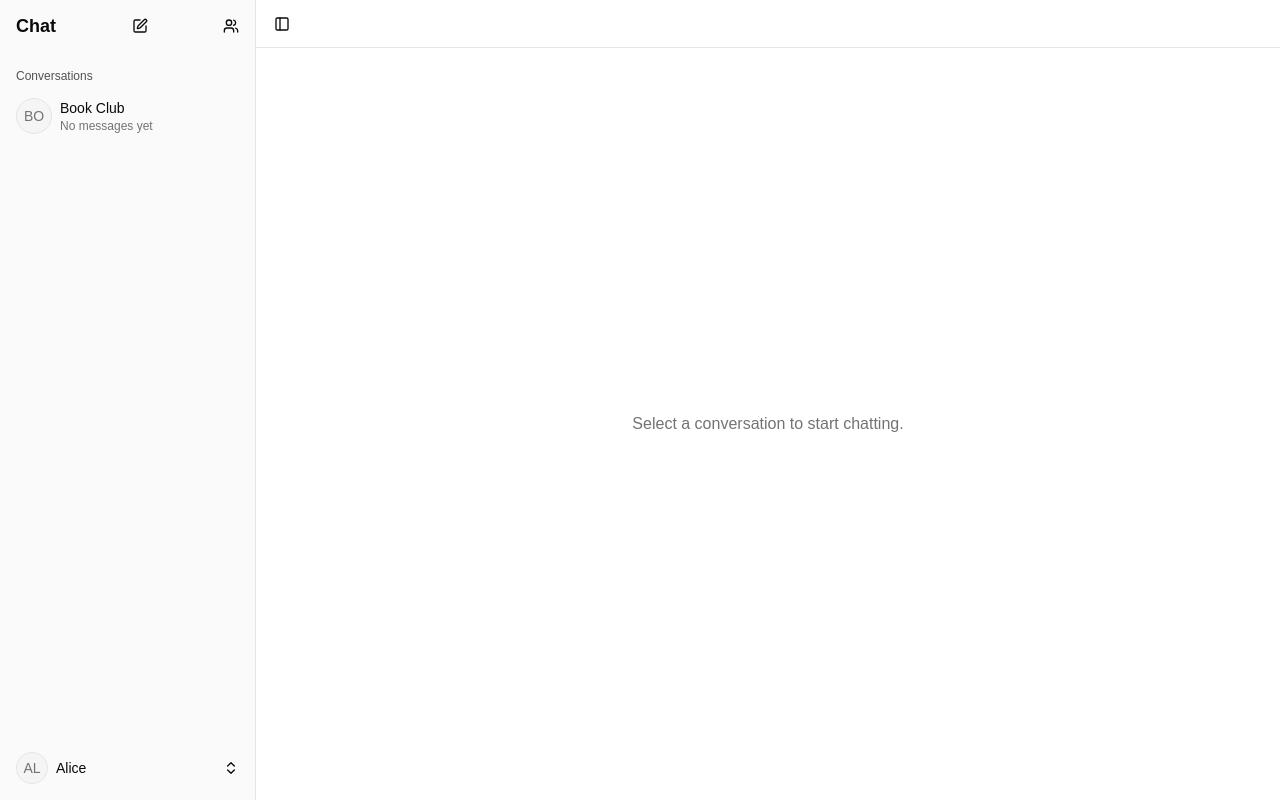
Scenario: Group details › lets the Owner remove a Member after confirming
What coordinates should you click on to do the following:
click the button "BO Book Club No messages yet"
I would click on:
 (128, 116)
Its box is [8,92,247,140].
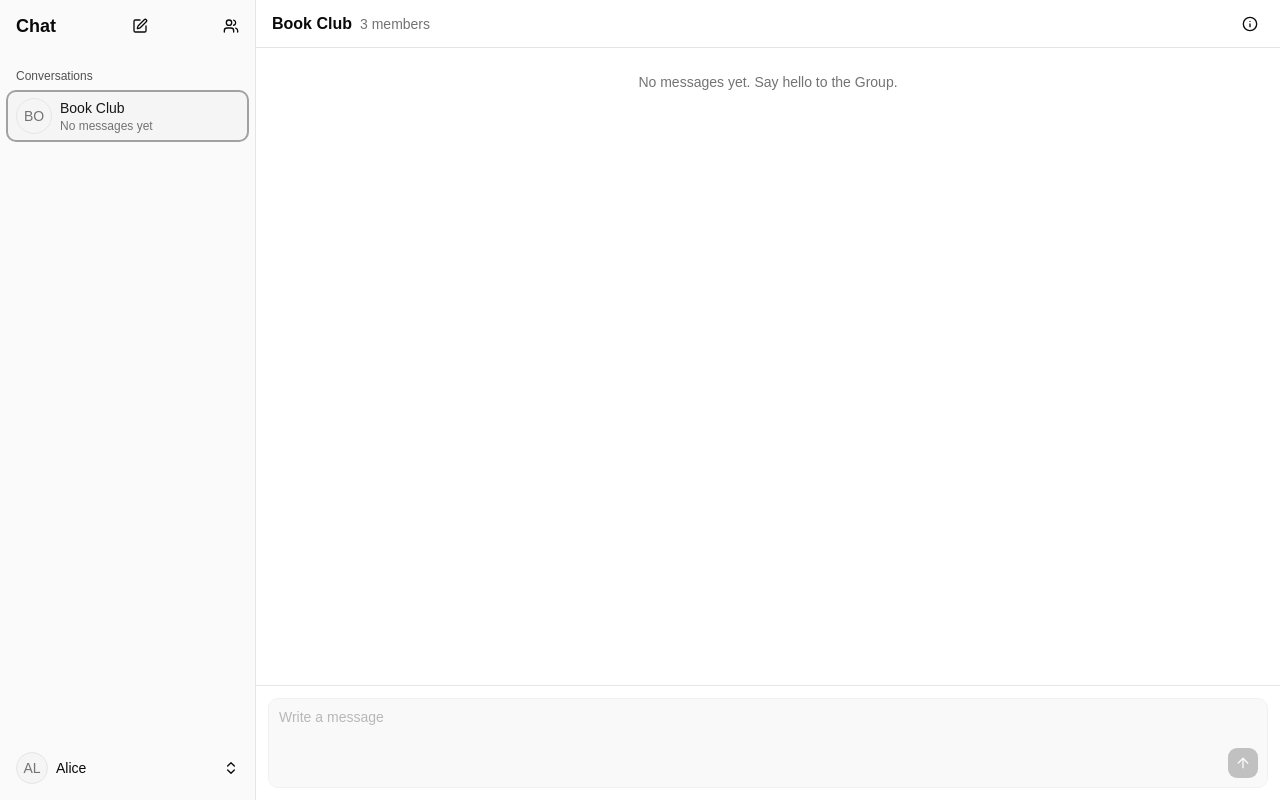
What coordinates should you click on to do the following:
click the button named "group details"
I would click on:
 (1250, 24)
Its box is [1236,10,1264,38].
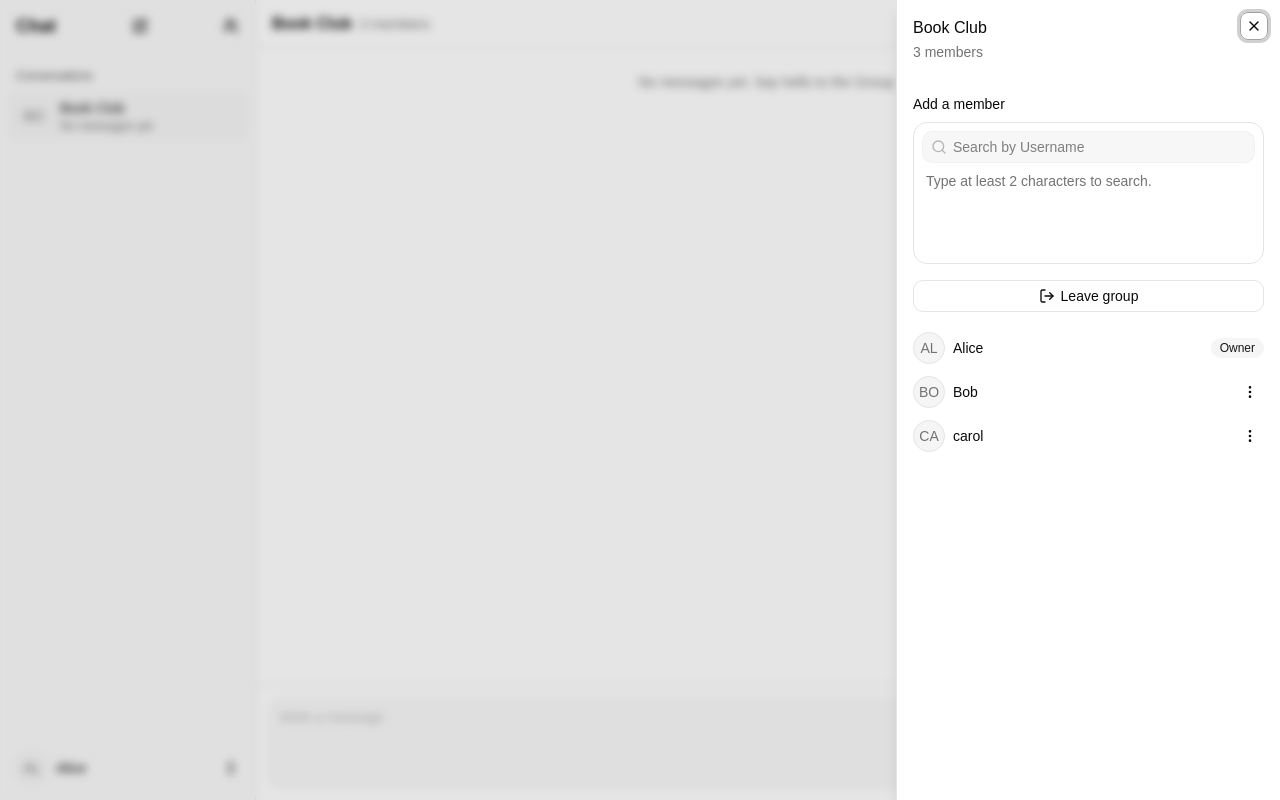
What coordinates should you click on to do the following:
click the button named "actions for bob"
I would click on:
 (1250, 392)
Its box is [1236,378,1264,406].
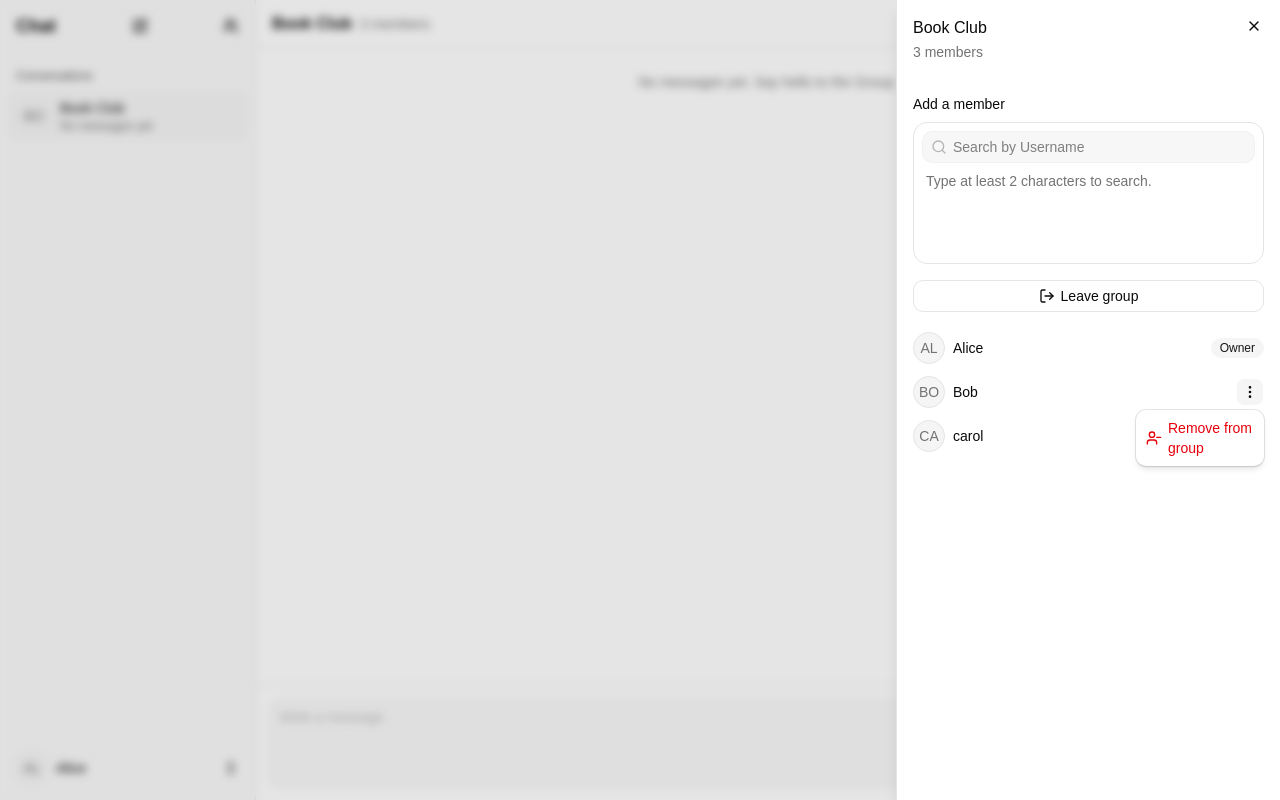
What coordinates should you click on to do the following:
click the menu item "Remove from group"
I would click on:
 (1200, 438)
Its box is [1140,414,1260,462].
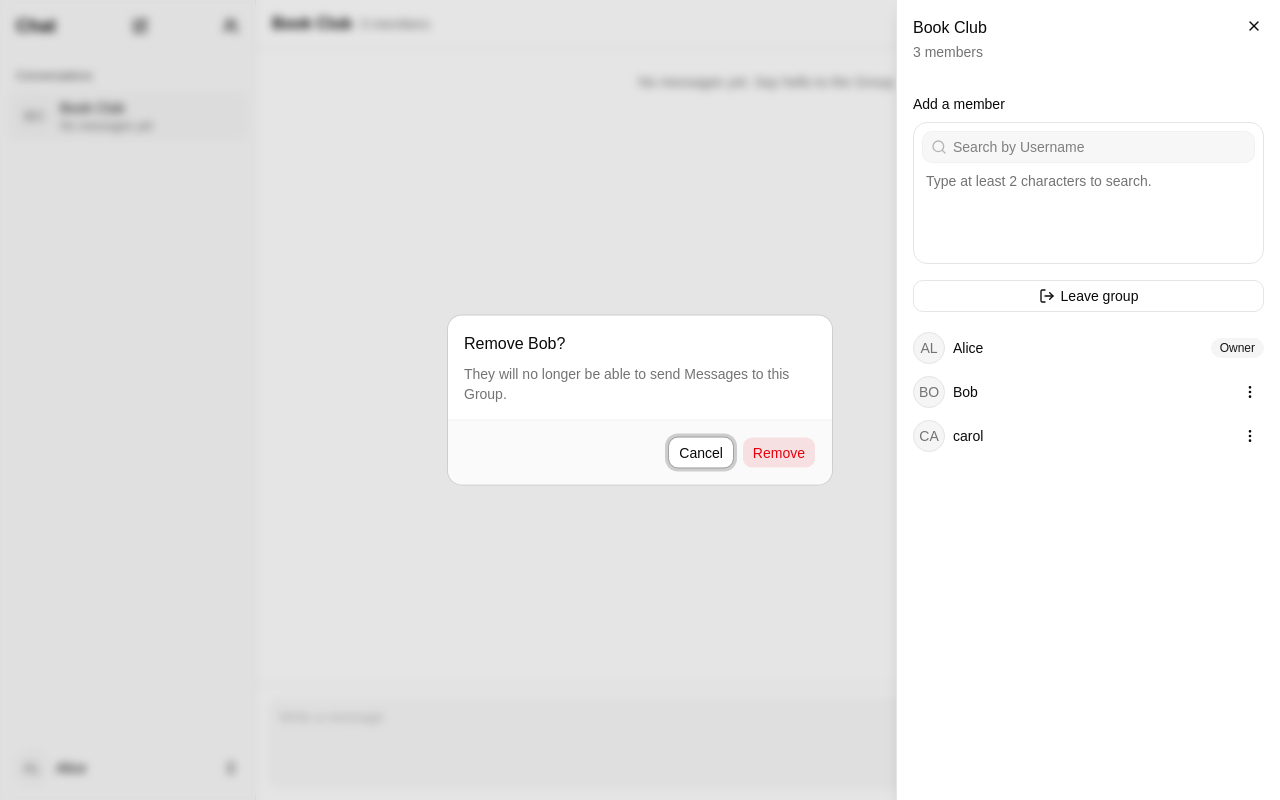
What coordinates should you click on to do the following:
click the button "Remove"
I would click on:
 (779, 452)
Its box is [742,436,816,468].
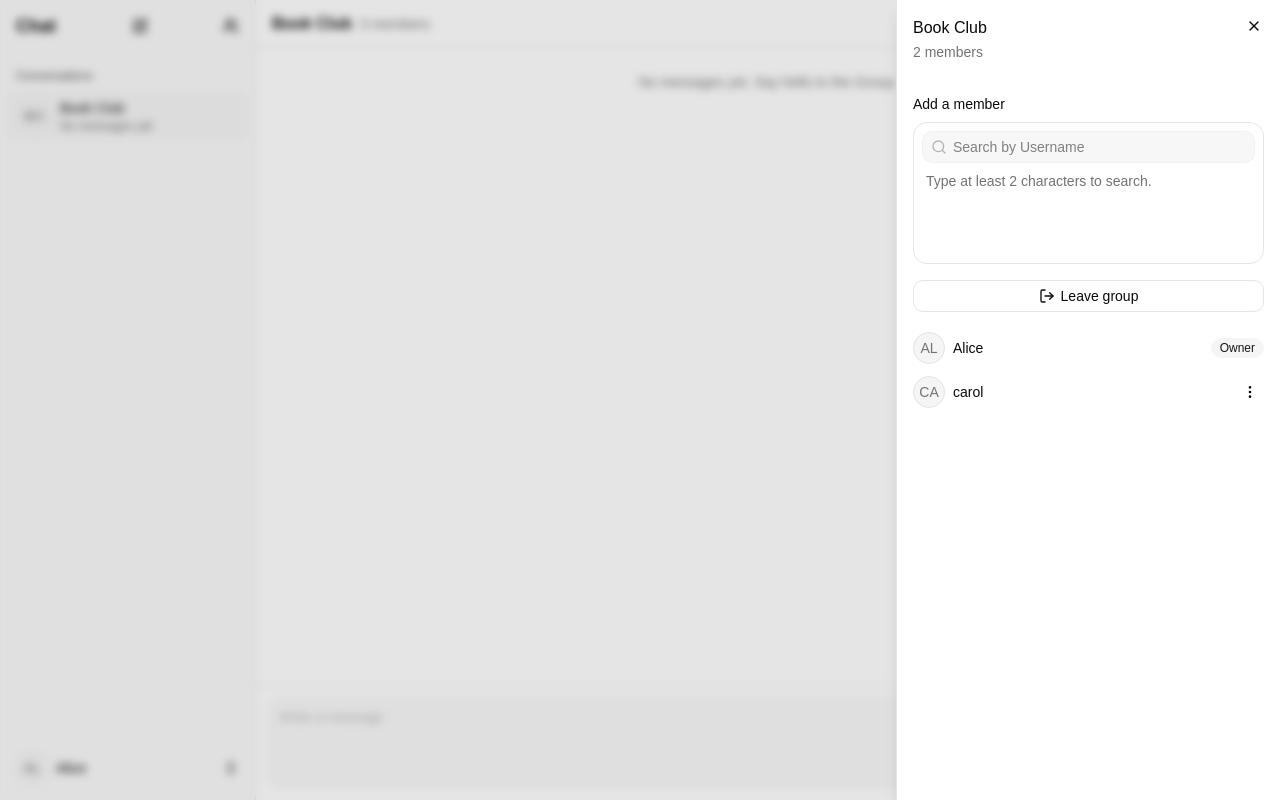
Expected: the text "carol" is shown, [953,384,983,400]
Expected: the text "Bob" is gone
